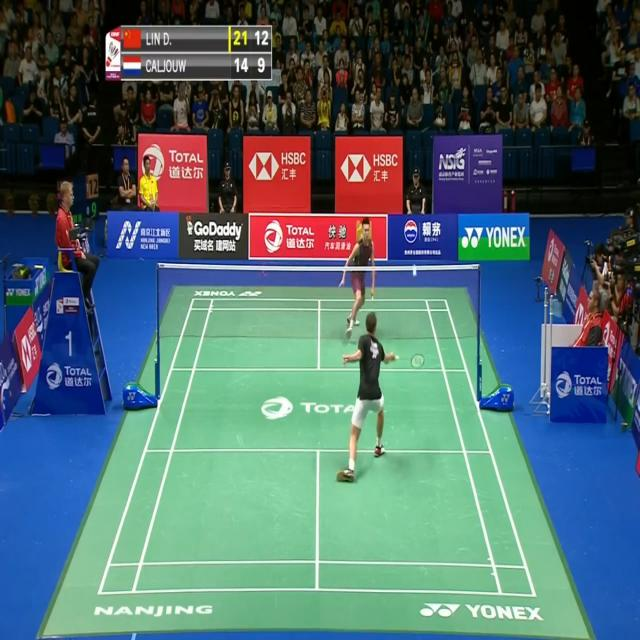Player1: (332, 310, 430, 494)
Player2: (335, 211, 381, 342)
